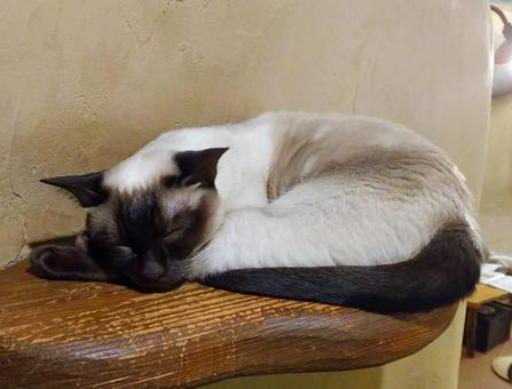cat_sleeping: (32, 111, 487, 312)
